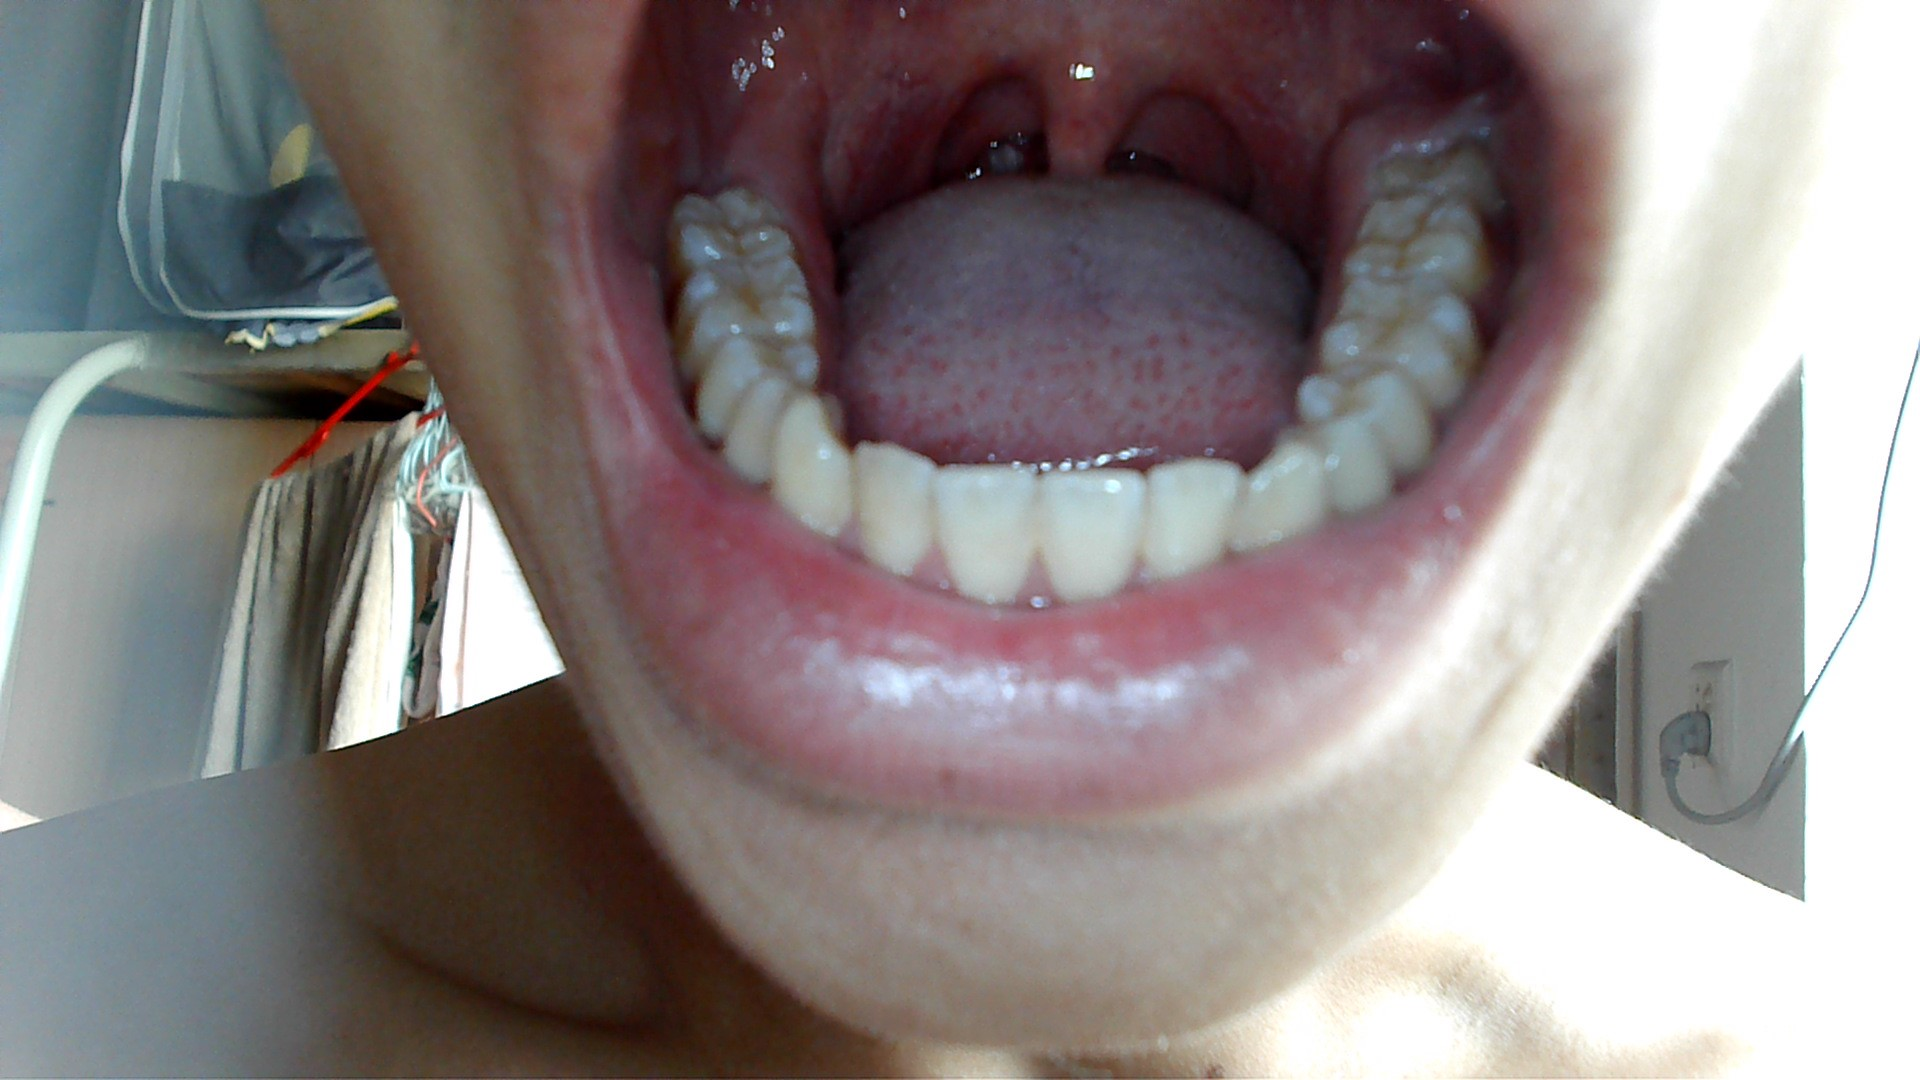throat: (1203, 44, 1294, 204), (890, 36, 971, 189)
